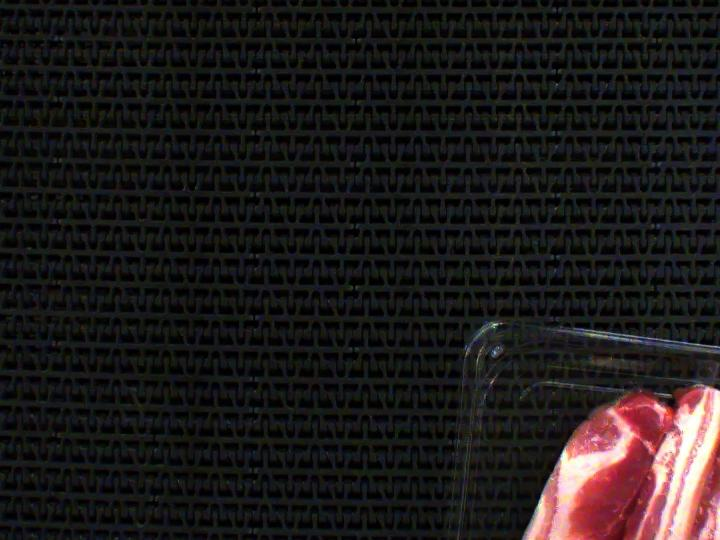packaging-error: (693, 353, 720, 390)
